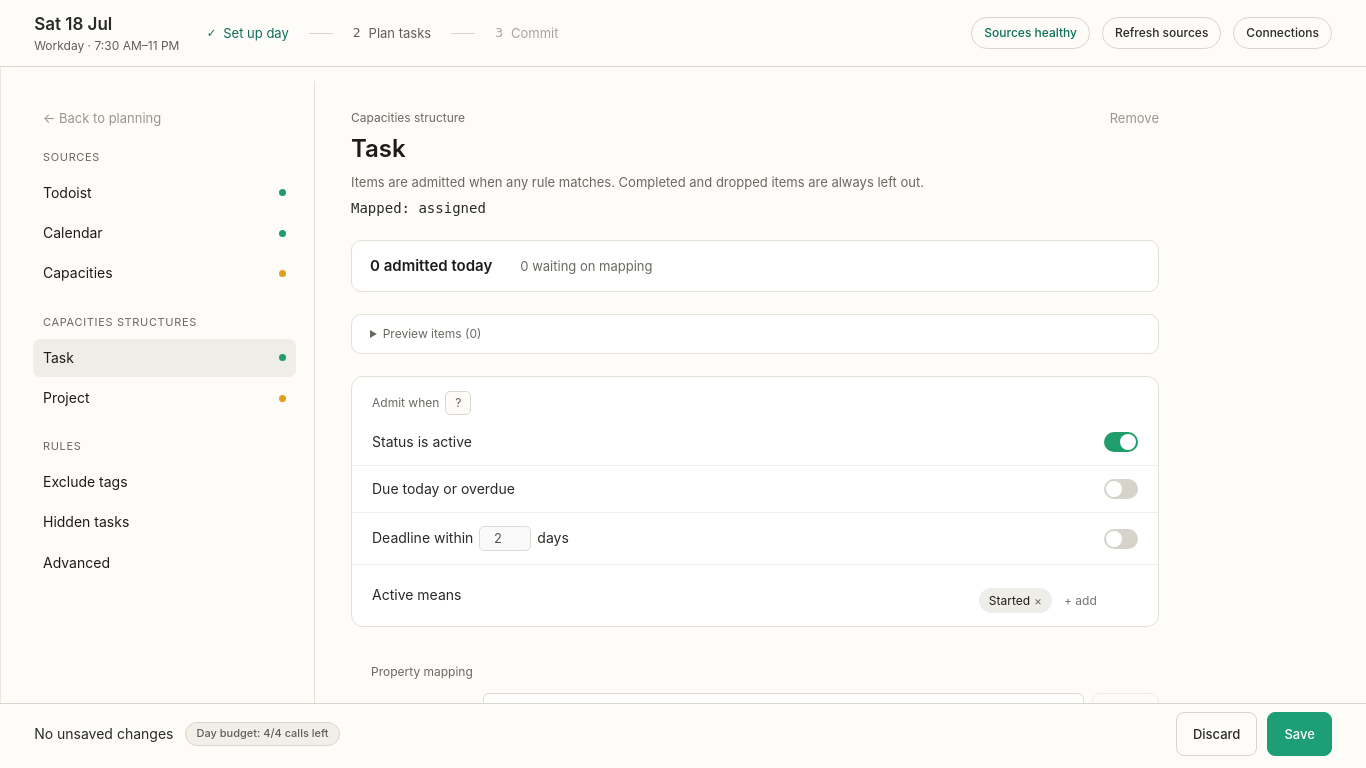
Scenario: Connections screen (U13) › shows the stale saved tag notice and lets it be removed
This screenshot has width=1366, height=768.
Step 1. Click the button "Exclude tags" → [85, 482], box [33,463,296,502]
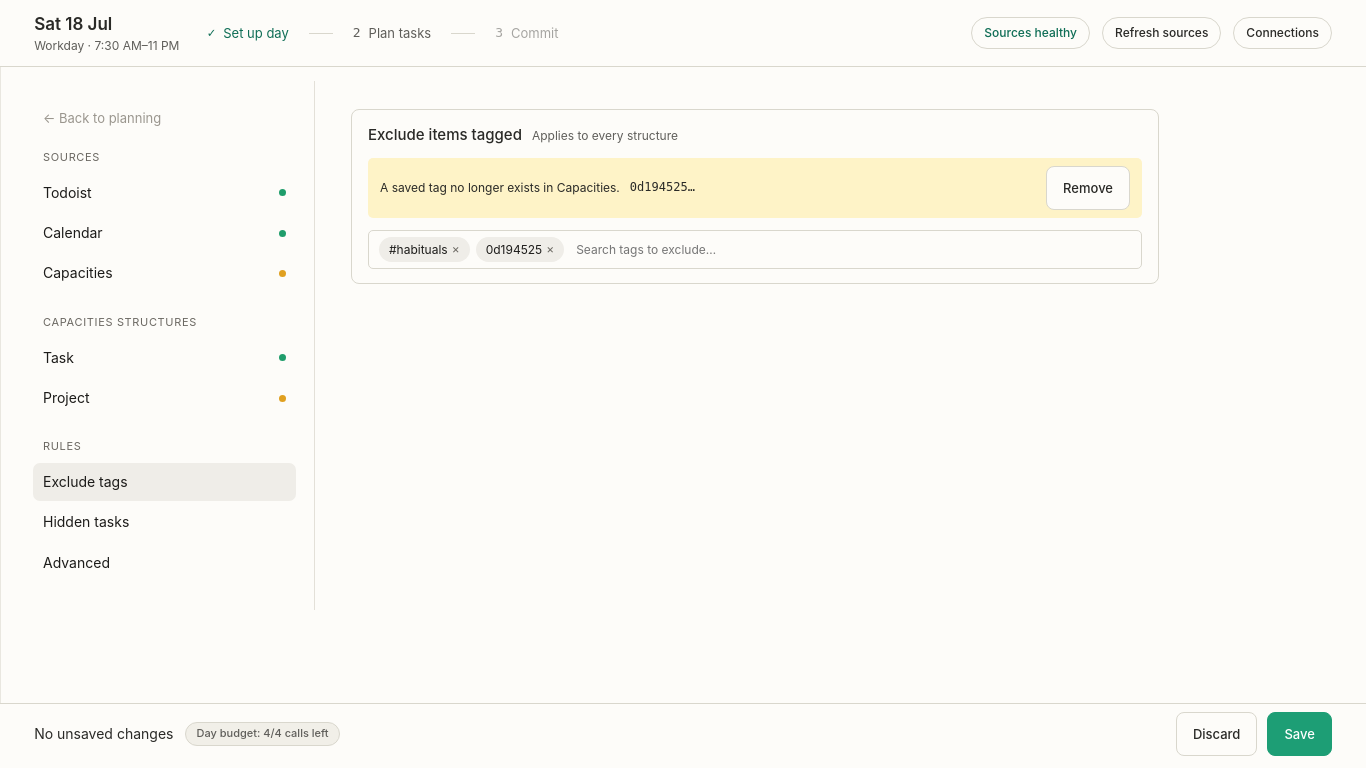
Check: the text "A saved tag no longer exists in Capacities." is shown, box [380,179,620,196]
Step 2. Click the button with aria-label "Remove saved tag" → [1088, 188], box [1046,166,1130,210]
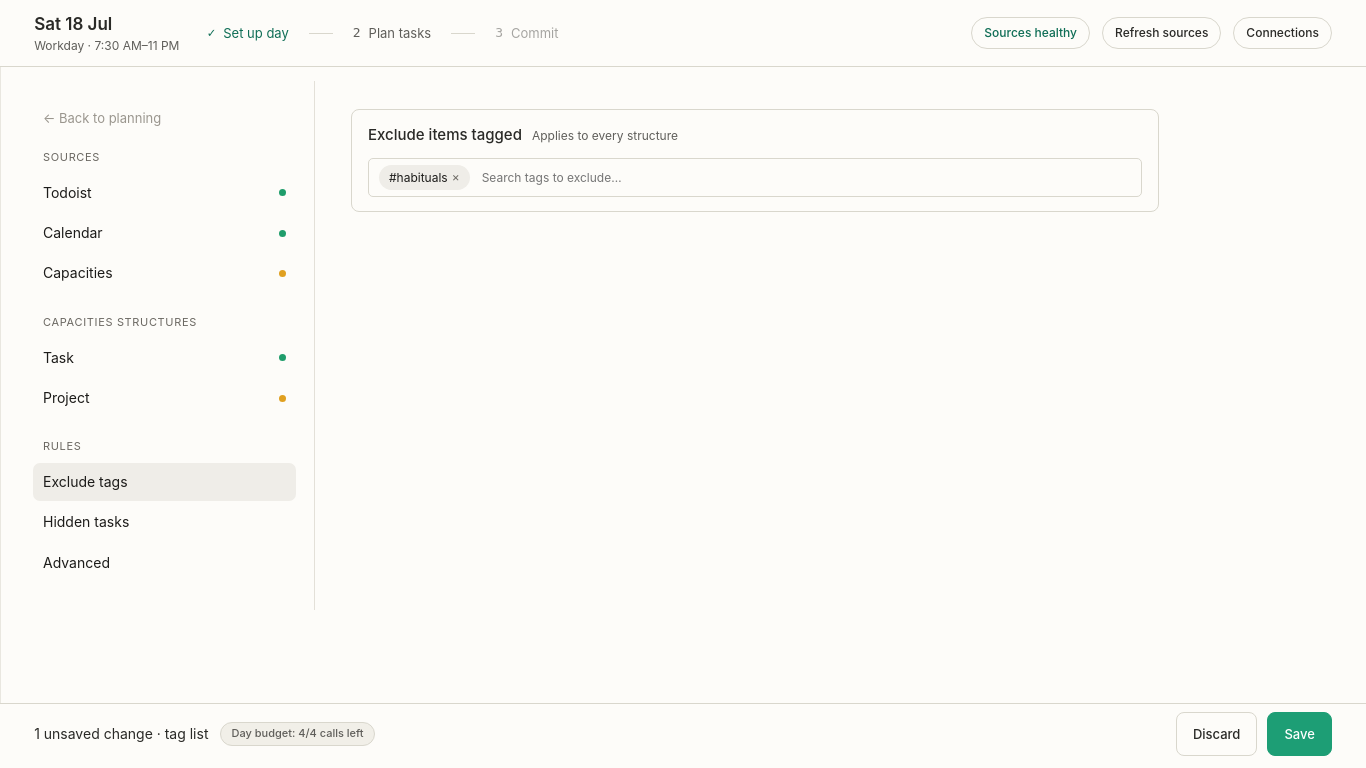
Check: the text "A saved tag no longer exists in Capacities" is gone
